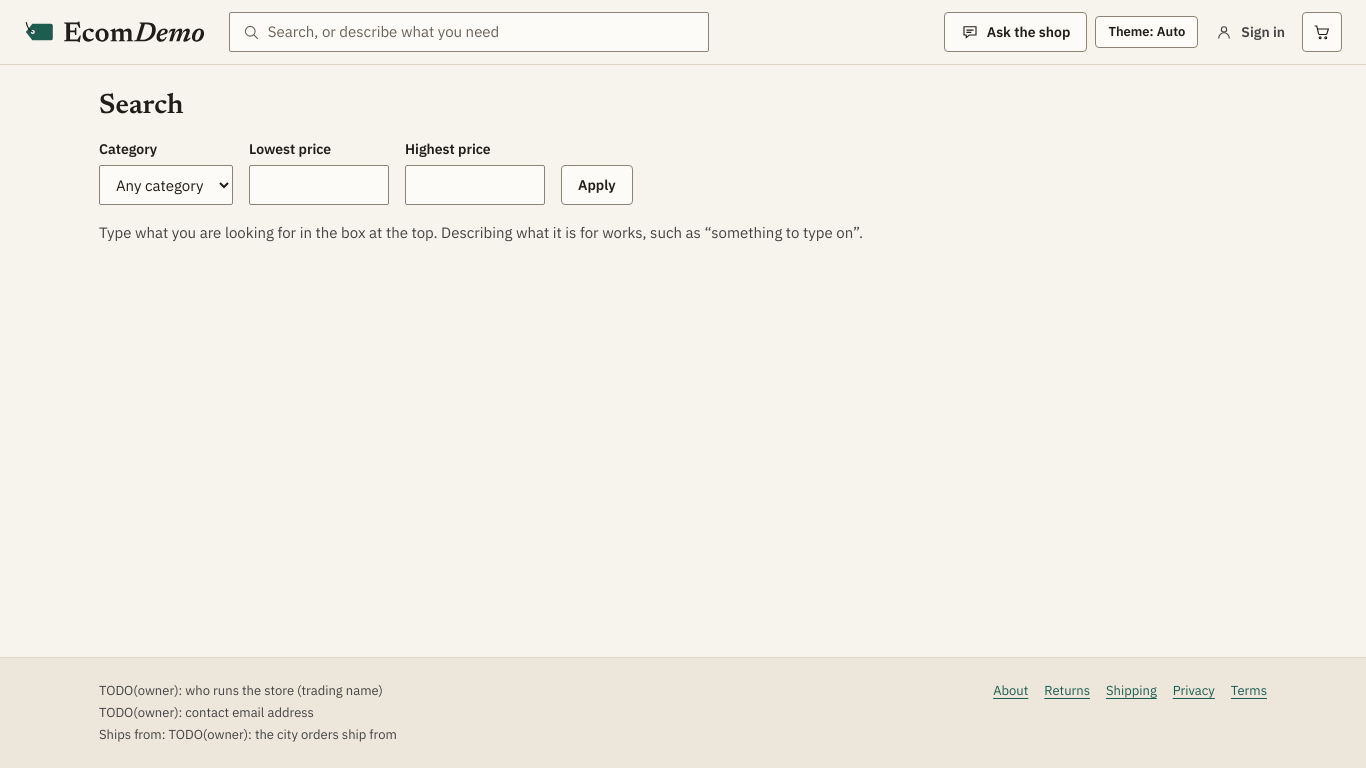
Test: layout › the footer link "Shipping" opens the Shipping page
The width and height of the screenshot is (1366, 768).
Expected: the heading "Search" is shown, [99, 92, 184, 120]
Click the link "Shipping". click: (1131, 690)
box: [1106, 682, 1157, 699]
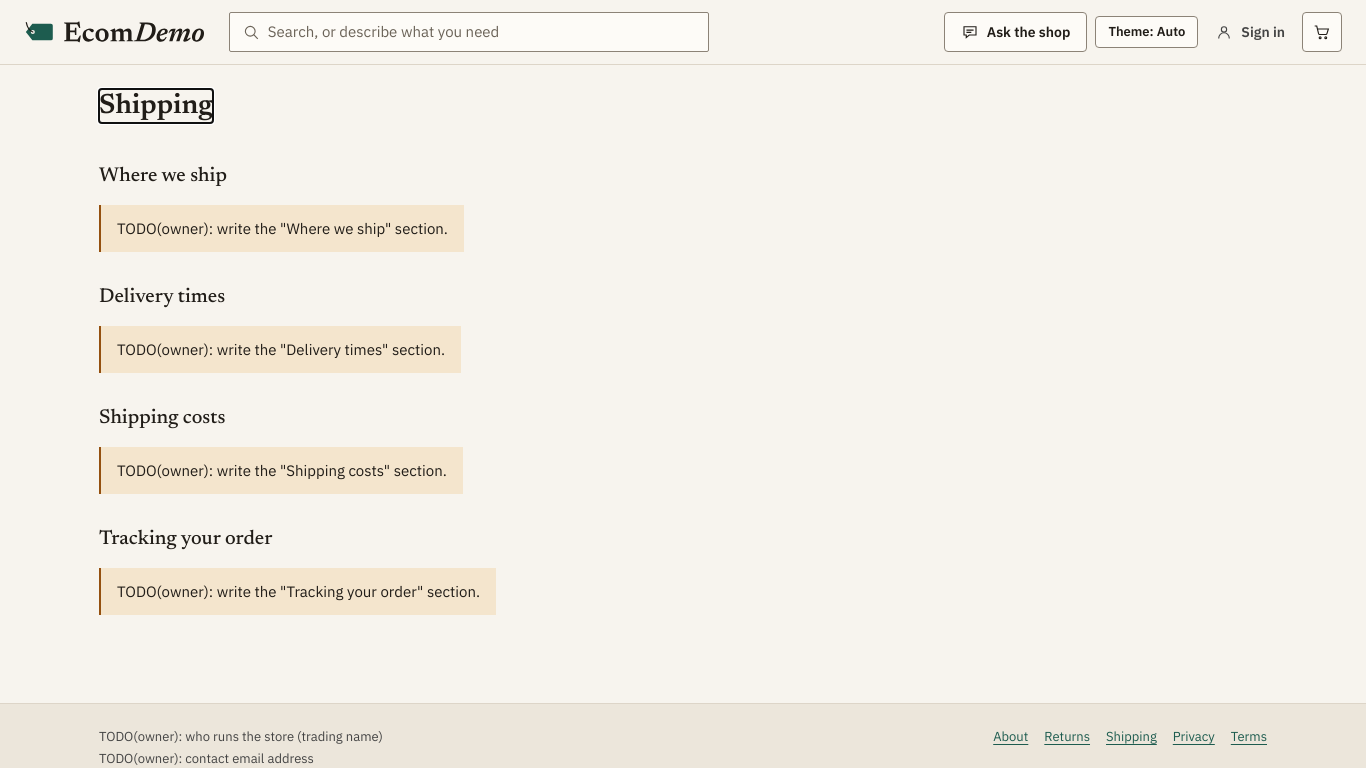
Result: the heading "Shipping" is shown at [99, 89, 213, 123]
